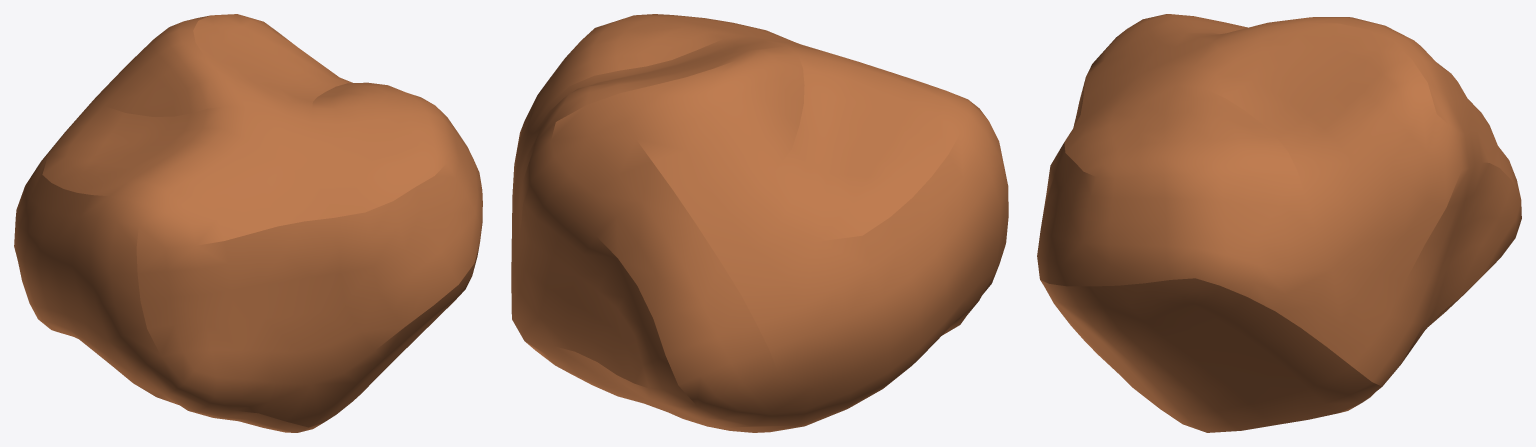
File: MM_Rock_04.fbx
The picture shows the model from 3 angles, left to right: view 1: azimuth 30°, elevation 25°; view 2: azimuth 150°, elevation 25°; view 3: azimuth 270°, elevation 25°; orthographic projection. The views are drawn at different scales.
Visible parts, largest first — view 1: rock_4; view 2: rock_4; view 3: rock_4.
Part boxes in pixels (box(x1,y1,x2,y2)): rock_4: box(14, 14, 482, 432); rock_4: box(511, 14, 1008, 432); rock_4: box(1037, 14, 1521, 432).
Bounding box in the file's own units: 85.88 × 69.41 × 83.48.
